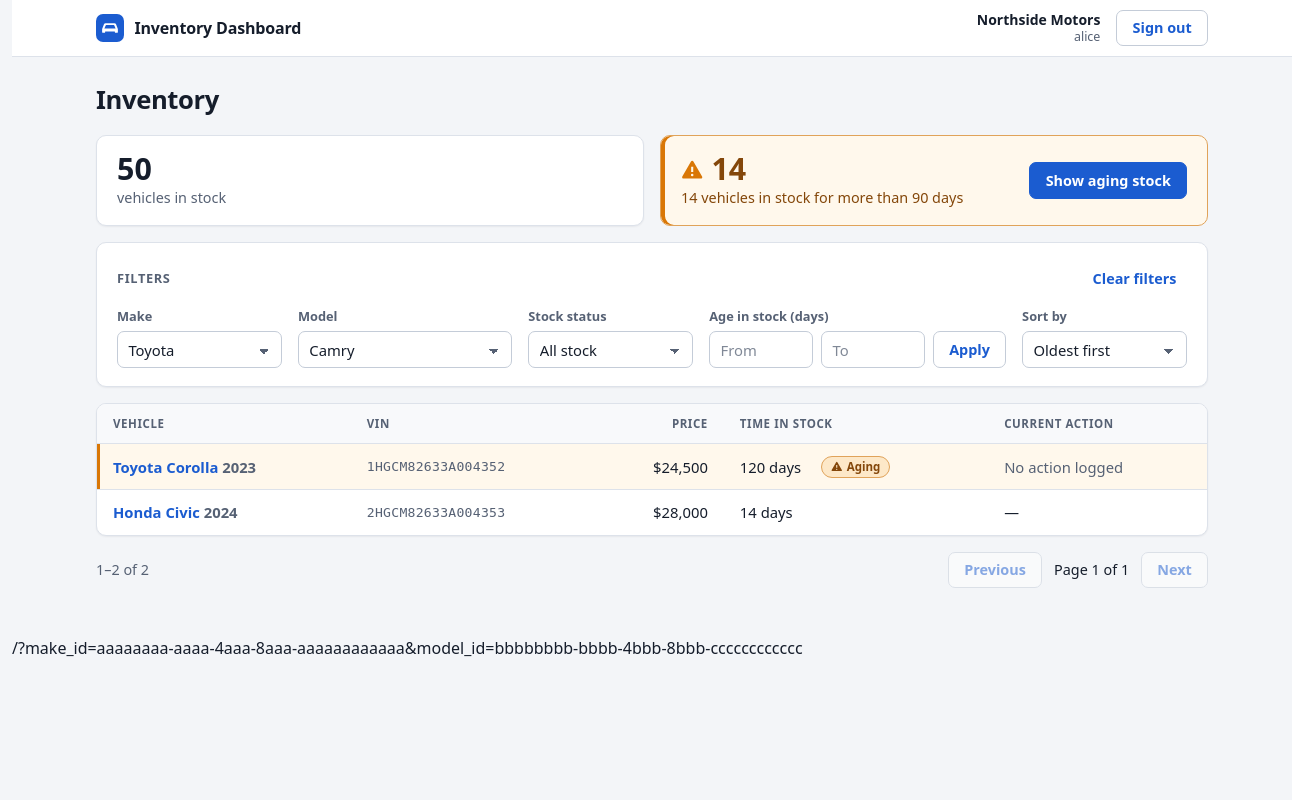
filtering › clears the model when the make changes
Expected: the link "Toyota Corolla" is shown, [113,457,218,477]
Select "Honda" in the dropdown labelled "Make": (199, 350) [117,331,282,368]
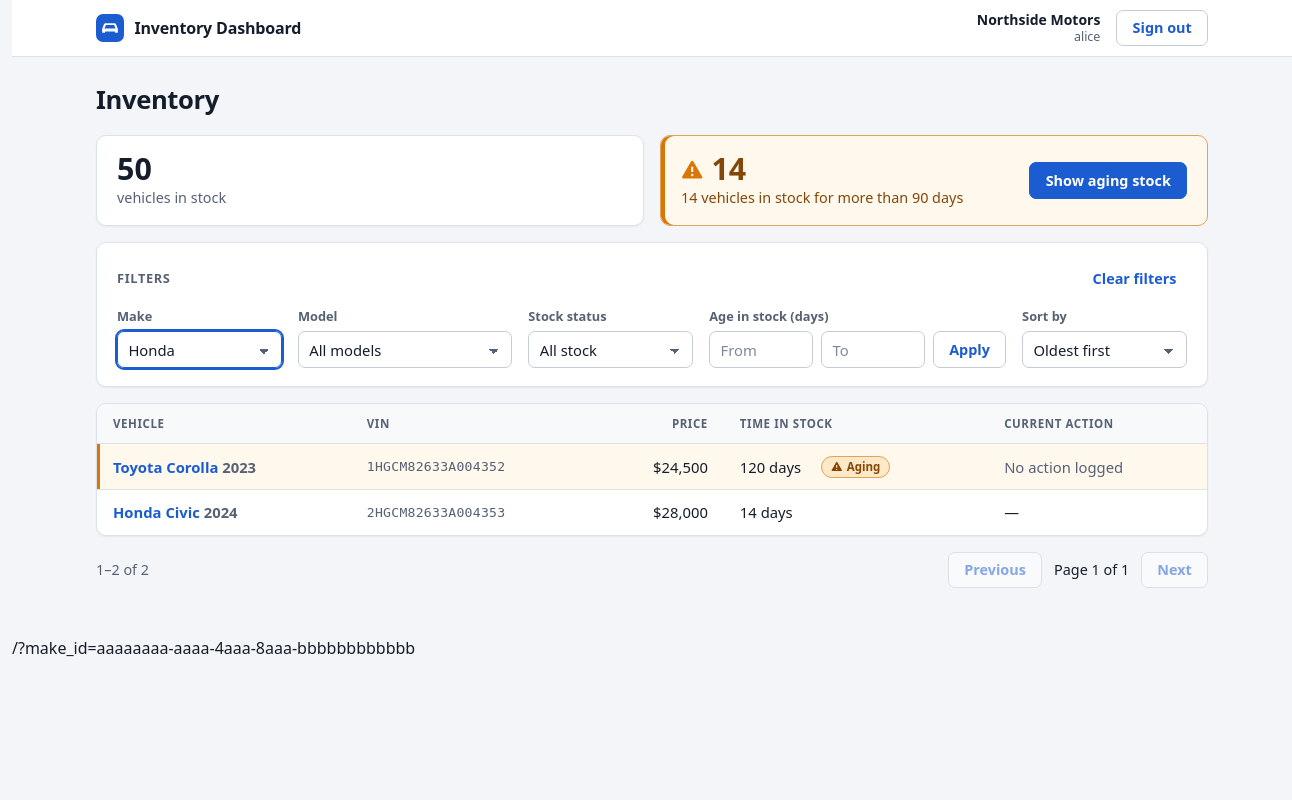
Expected: the link "Toyota Corolla" is shown, [113,457,218,477]
Result: the dropdown labelled "Model" shows "All models" at [298,331,512,368]
